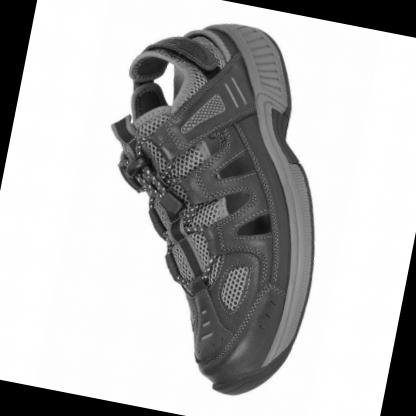ankle: (185, 76, 194, 89)
heel: (229, 26, 240, 39)
pinky: (274, 301, 287, 317)
right_foot: (74, 6, 358, 407)
toe: (197, 348, 214, 363)
